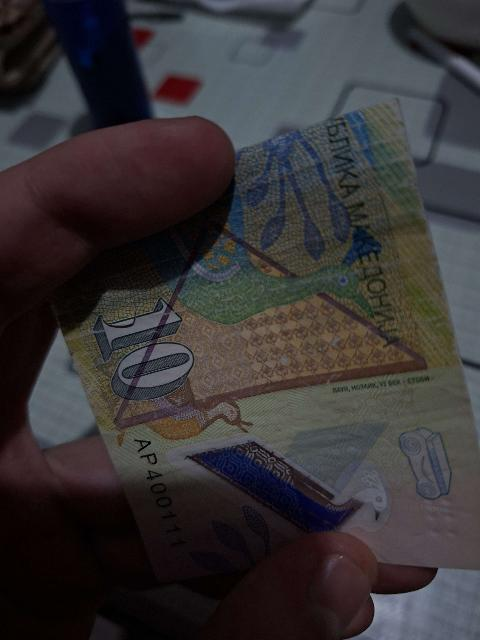10_note: (58, 108, 479, 600)
